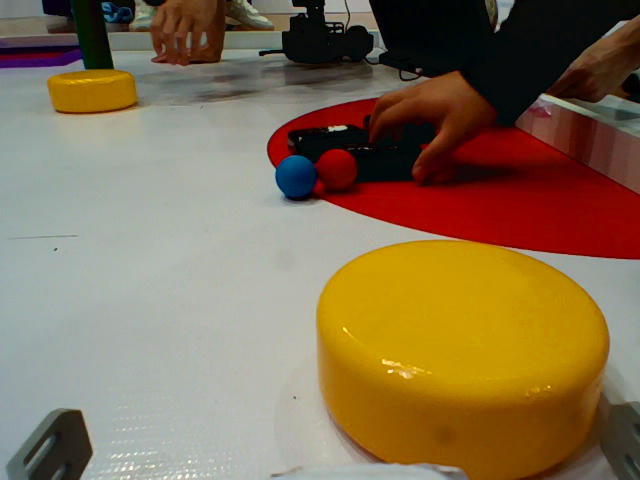black: (280, 107, 378, 150), (346, 139, 434, 179)
blue: (277, 156, 315, 199)
kuang: (1, 42, 87, 71)
red: (315, 148, 355, 191)
yellow: (313, 229, 619, 474), (35, 65, 161, 126)
zhuzi: (62, 1, 118, 74)
